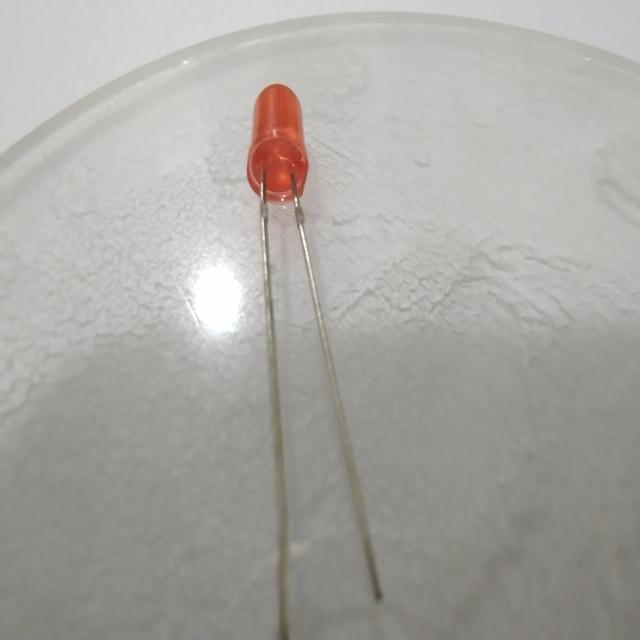red_led: (241, 75, 321, 212)
